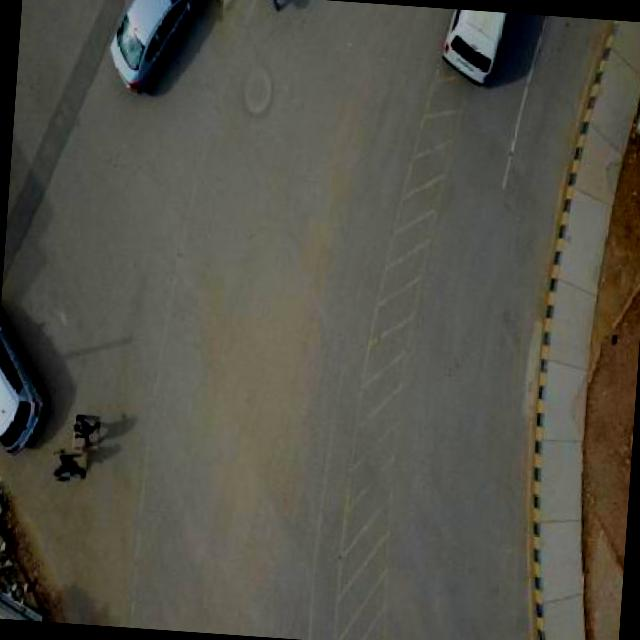Person: (54, 449, 86, 482), (71, 414, 101, 449)
